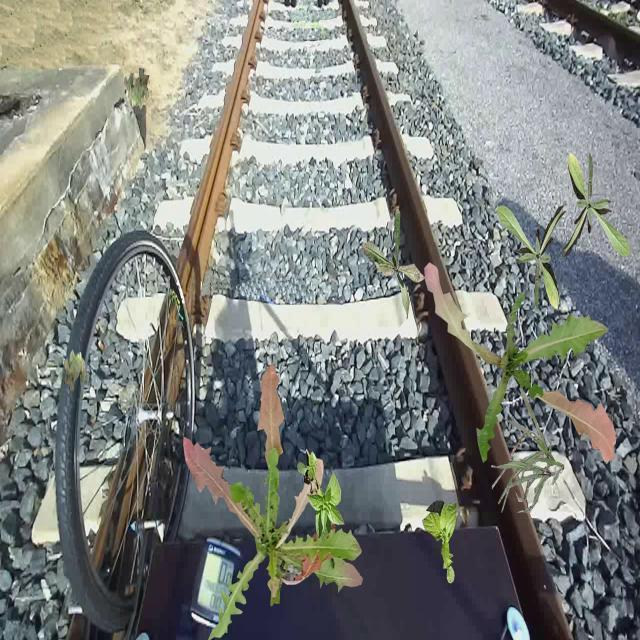Plant: (183, 362, 363, 640), (424, 262, 616, 464), (492, 388, 565, 512), (559, 151, 630, 259), (497, 203, 568, 311), (362, 208, 426, 320), (297, 449, 345, 544), (422, 500, 458, 584), (64, 349, 90, 392), (124, 68, 150, 110)
